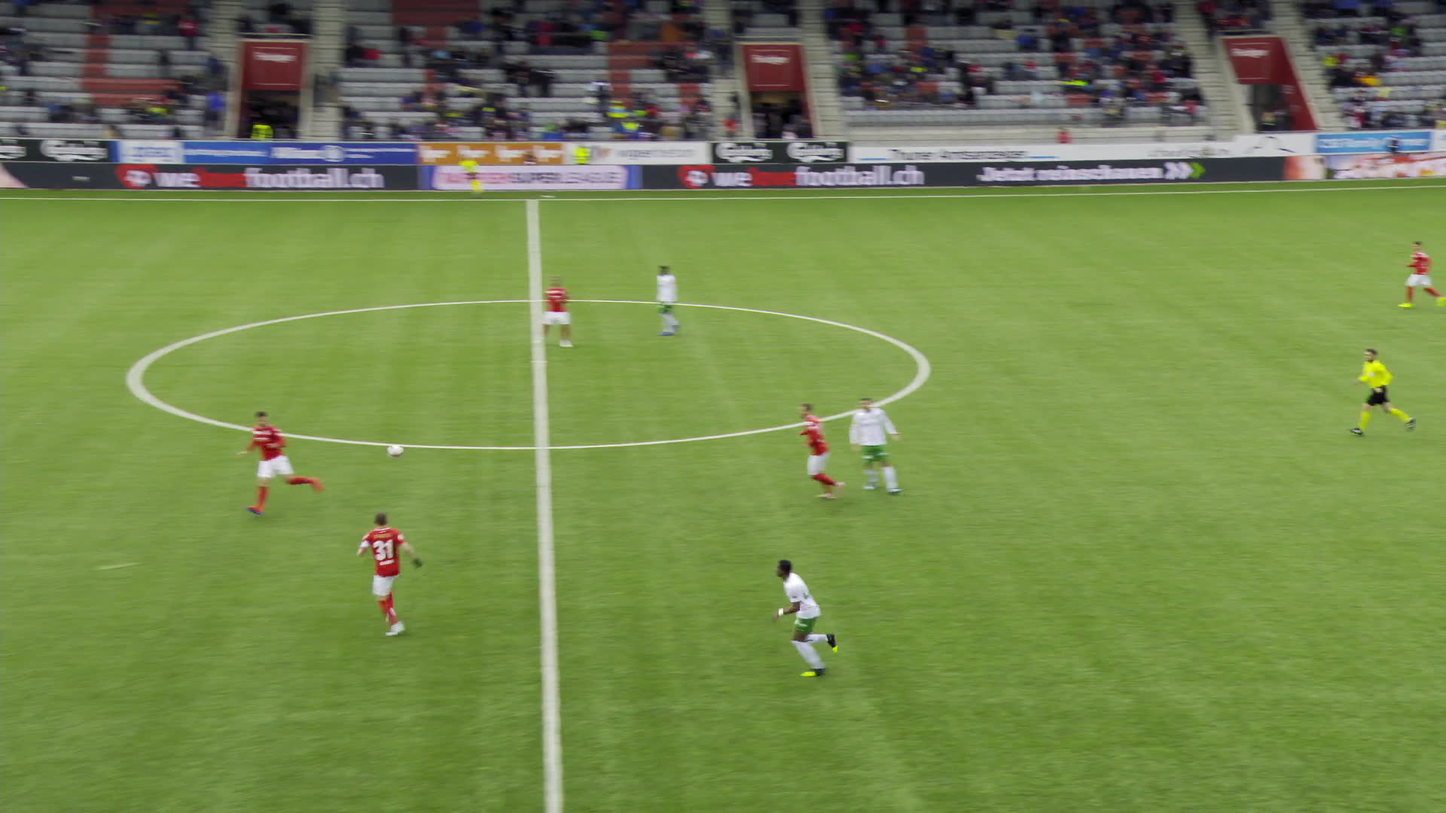ball: (374, 446, 394, 467)
player: (751, 549, 842, 674), (341, 513, 412, 638), (215, 412, 291, 513), (772, 398, 831, 501), (832, 393, 882, 493), (518, 272, 557, 348), (632, 263, 669, 336), (1387, 251, 1410, 310)
referee: (1341, 348, 1390, 437), (438, 151, 464, 196)
